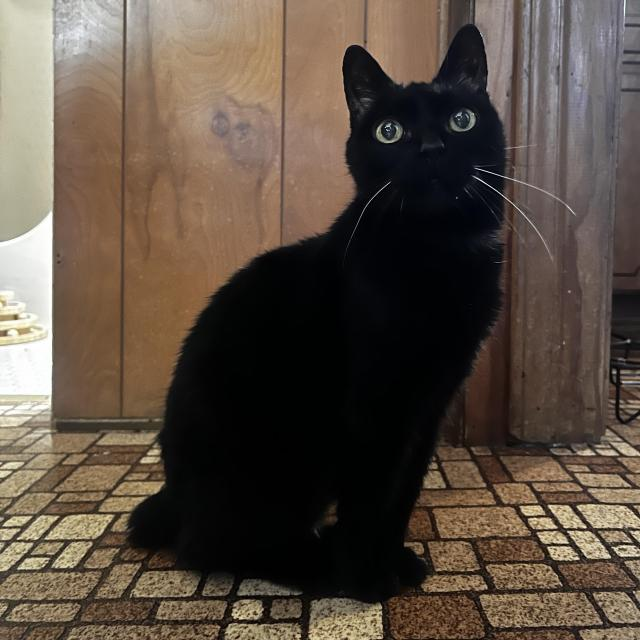manx_cat: (316, 9, 529, 261)
